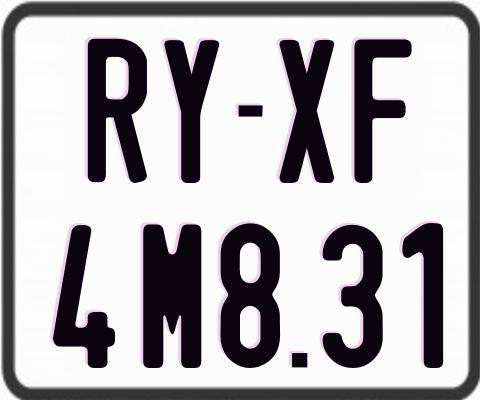1: (400, 223, 446, 373)
3: (320, 224, 385, 368)
4: (53, 222, 118, 366)
8: (219, 220, 285, 370)
F: (351, 36, 415, 182)
M: (142, 221, 205, 367)
R: (87, 38, 148, 187)
X: (278, 38, 336, 186)
Y: (163, 39, 218, 185)
